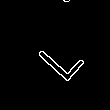L_NW: (26, 27, 84, 83)
